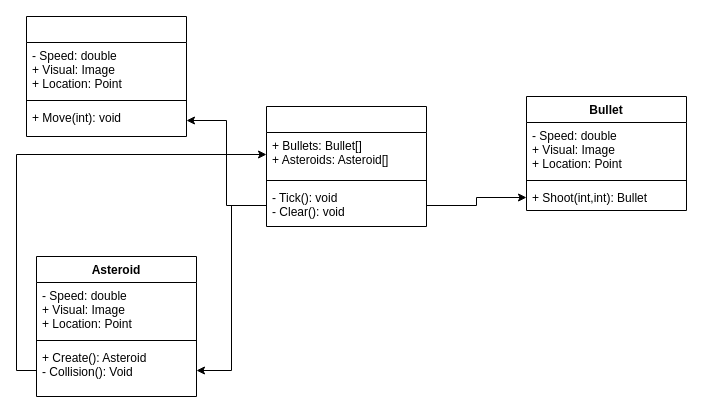
Some shapes in this 703 by 413 pixel diagram are drawn without their labels. Here are the shapes that lost their labels. From the top down, the box of each, then its label:
(26, 16, 186, 136): Space_ship
(266, 106, 426, 226): UI
